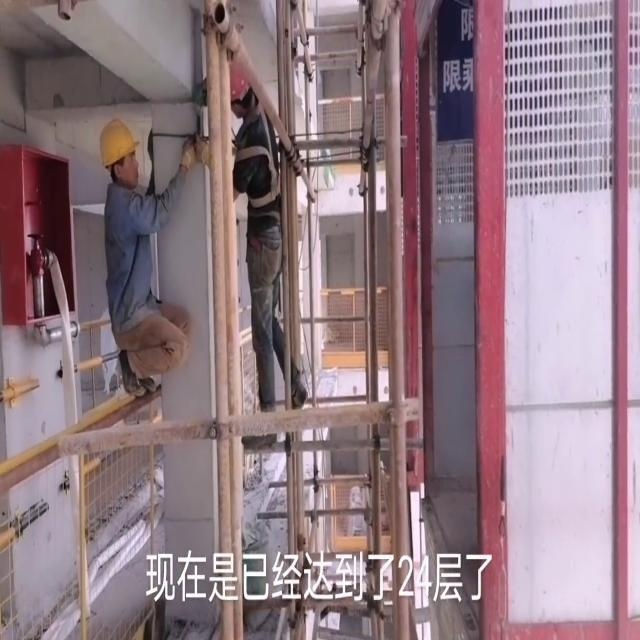Arnes_seguridad: (231, 101, 281, 211)
